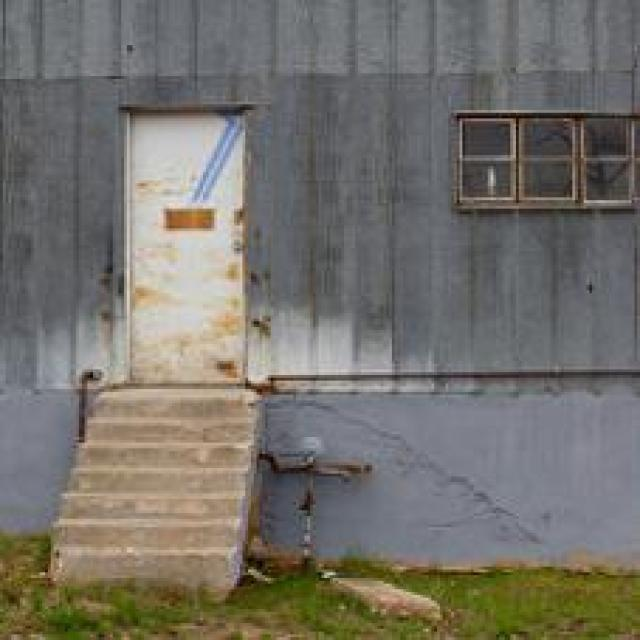upstair: (58, 379, 261, 590)
